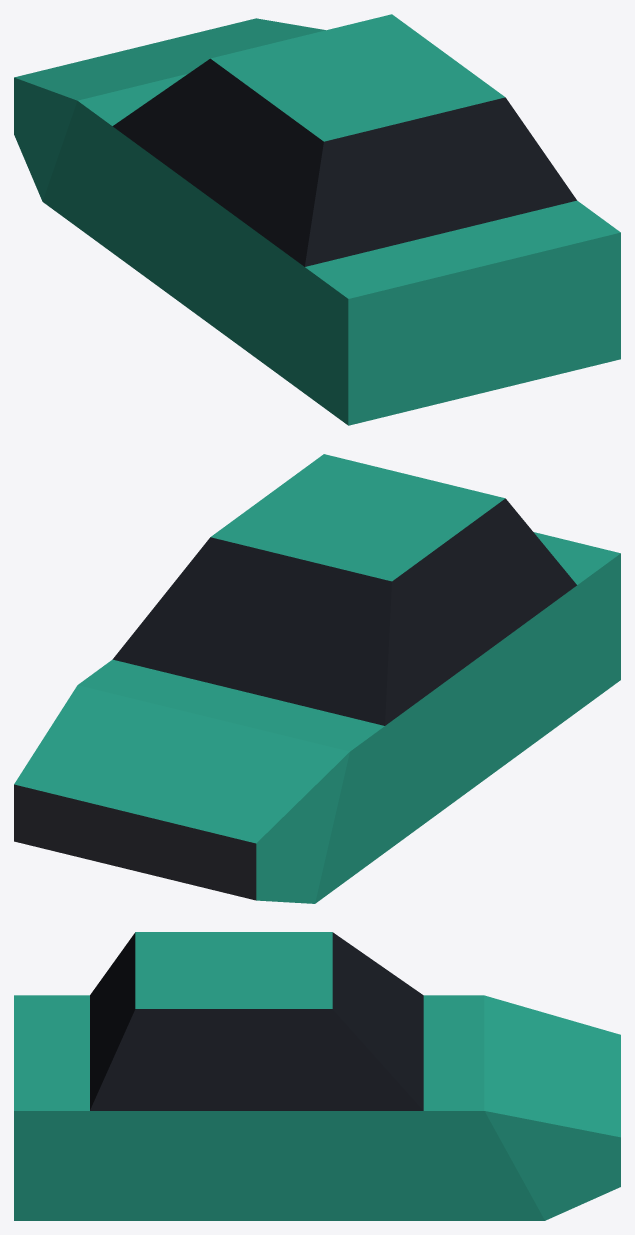
Rendered from car_2.obj.
3 views of the same model, one above another, from view 1: azimuth 30°, elevation 25°; view 2: azimuth 150°, elevation 25°; view 3: azimuth 270°, elevation 25° (orthographic). The views are drawn at different scales.
Parts seen in each view (by area): view 1: car; view 2: car; view 3: car.
Part boxes in pixels (box(x1,y1,x2,y2)): car: box(14, 14, 620, 425); car: box(14, 454, 620, 903); car: box(14, 932, 620, 1220).
Size of the model in its own units: 0.9 by 0.7 by 2.
